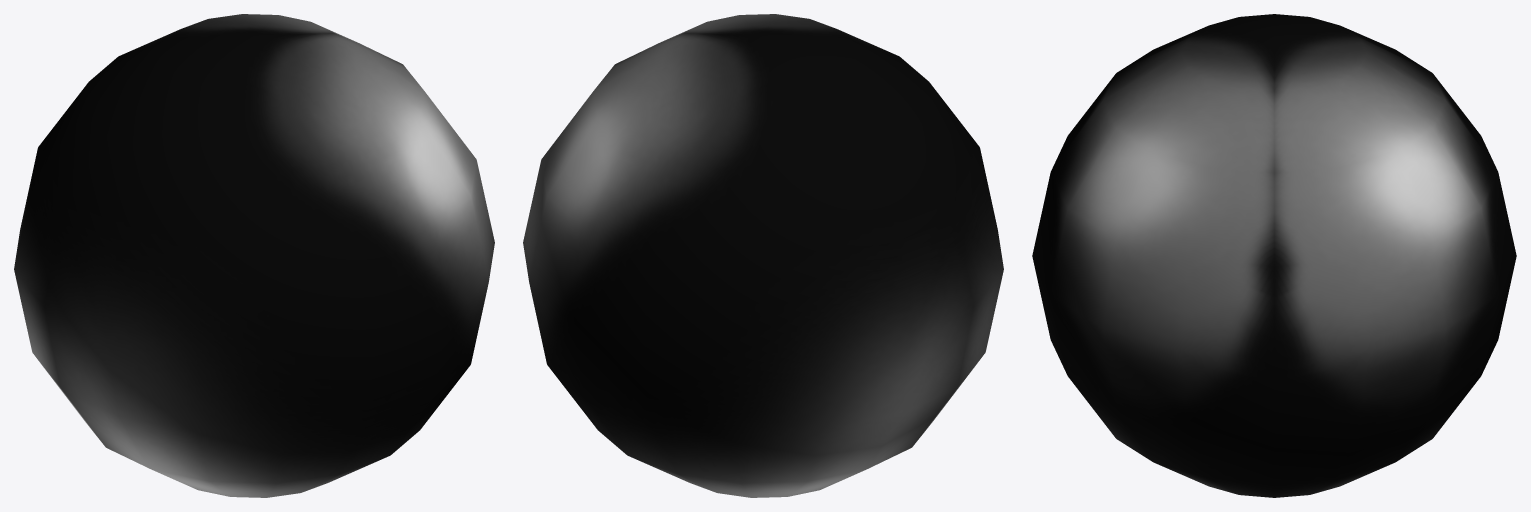
File: I_003_MagnetCapsule.FBX
The picture shows the model from 3 angles, left to right: view 1: azimuth 30°, elevation 25°; view 2: azimuth 150°, elevation 25°; view 3: azimuth 270°, elevation 25°; orthographic projection.
Visible parts, largest first — view 1: capsule; view 2: capsule; view 3: capsule.
Part boxes in pixels (x1,y1,x2,y2): capsule: (14, 14, 494, 497); capsule: (523, 14, 1003, 497); capsule: (1032, 14, 1516, 497).
Bounding box in the file's own units: 100 × 100 × 100.
